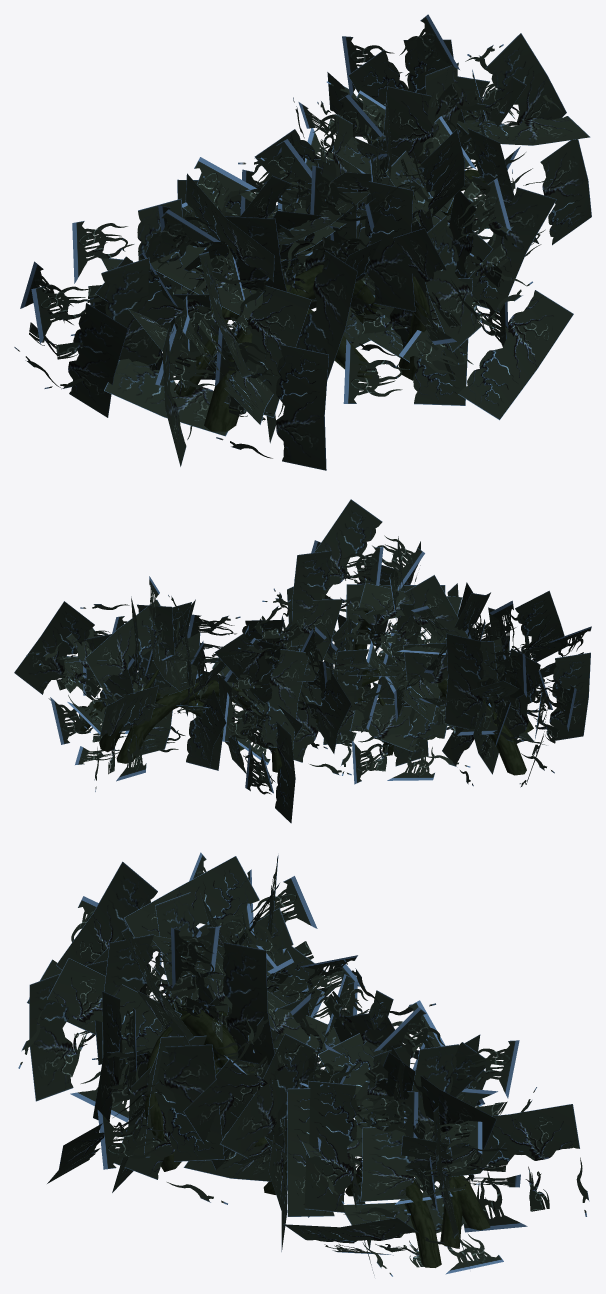
The model's file is buissons_ronces3.FBX.
The picture shows the model from 3 angles, top to bottom: view 1: azimuth 30°, elevation 25°; view 2: azimuth 150°, elevation 25°; view 3: azimuth 270°, elevation 25°; orthographic projection. The views are drawn at different scales.
Parts seen in each view (by area): view 1: Object009; view 2: Object009; view 3: Object009.
Part boxes in pixels (x1=…): Object009: x1=14, y1=14, x2=591, y2=470; Object009: x1=14, y1=499, x2=591, y2=823; Object009: x1=18, y1=852, x2=589, y2=1276.
Bounding box in the file's own units: 461 × 194 × 367.
